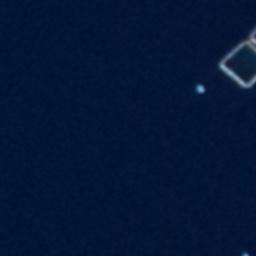square_solid: (214, 35, 256, 95)
